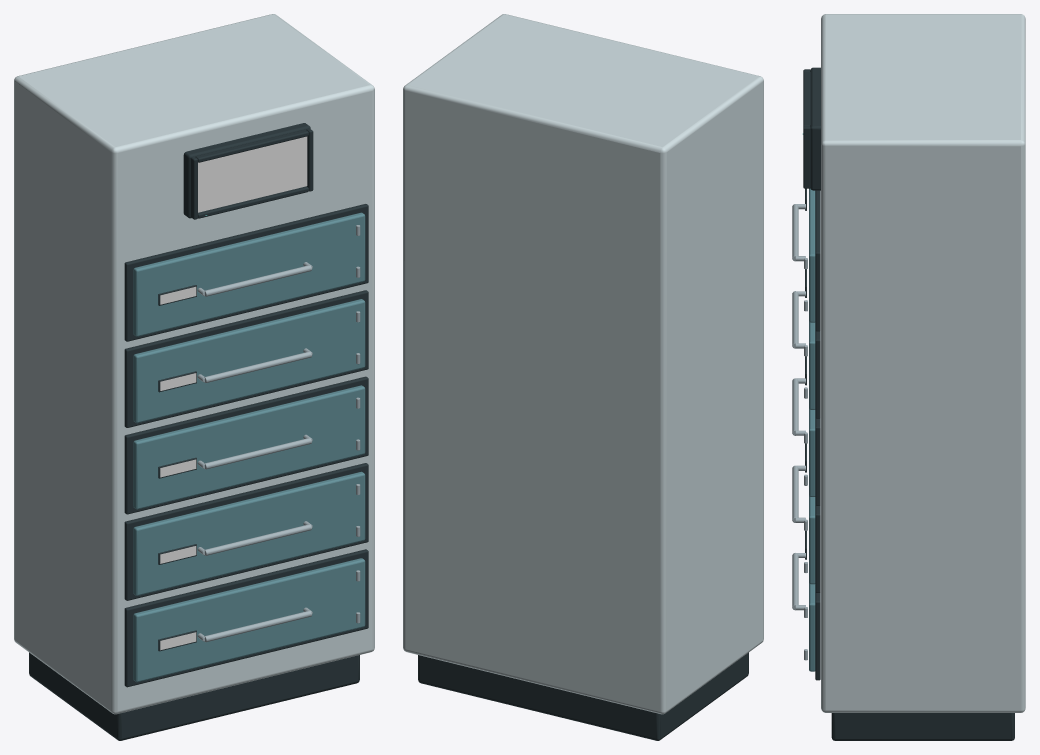
Rendered from ID_CryoDrawerBank.fbx.
3 renders of one model, left to right at view 1: azimuth 30°, elevation 25°; view 2: azimuth 150°, elevation 25°; view 3: azimuth 270°, elevation 25°, orthographic.
Parts seen in each view (by area): view 1: ID_CryoDrawerBank; view 2: ID_CryoDrawerBank; view 3: ID_CryoDrawerBank.
Part boxes in pixels (left/top/right/bottom): ID_CryoDrawerBank: left=14, top=14, right=374, bottom=740; ID_CryoDrawerBank: left=403, top=14, right=763, bottom=740; ID_CryoDrawerBank: left=792, top=14, right=1025, bottom=740.
Size of the model in its own units: 102 by 222 by 77.55.
